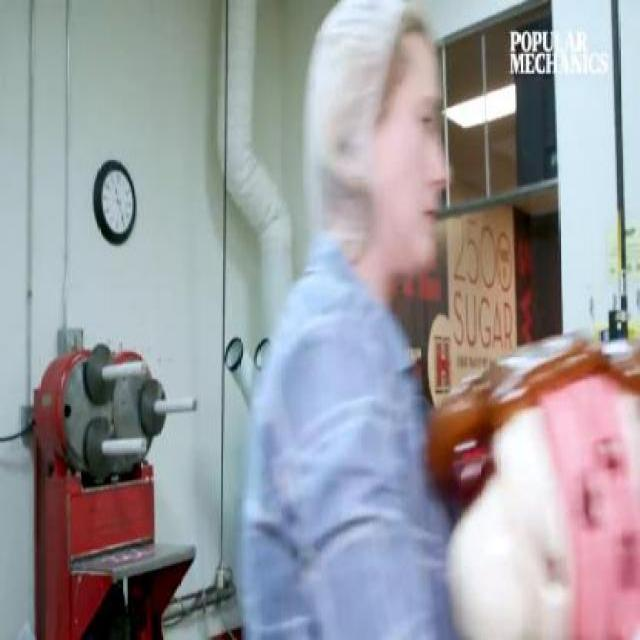hairnet: (306, 0, 423, 89)
